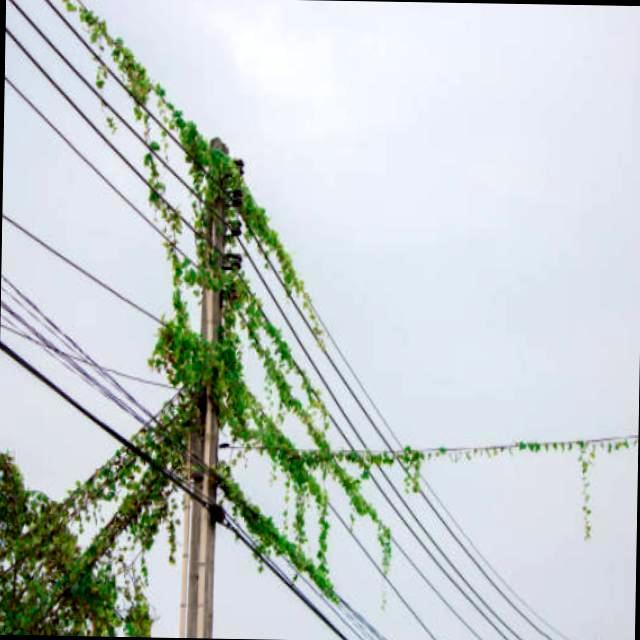light_pole: (160, 146, 261, 634)
